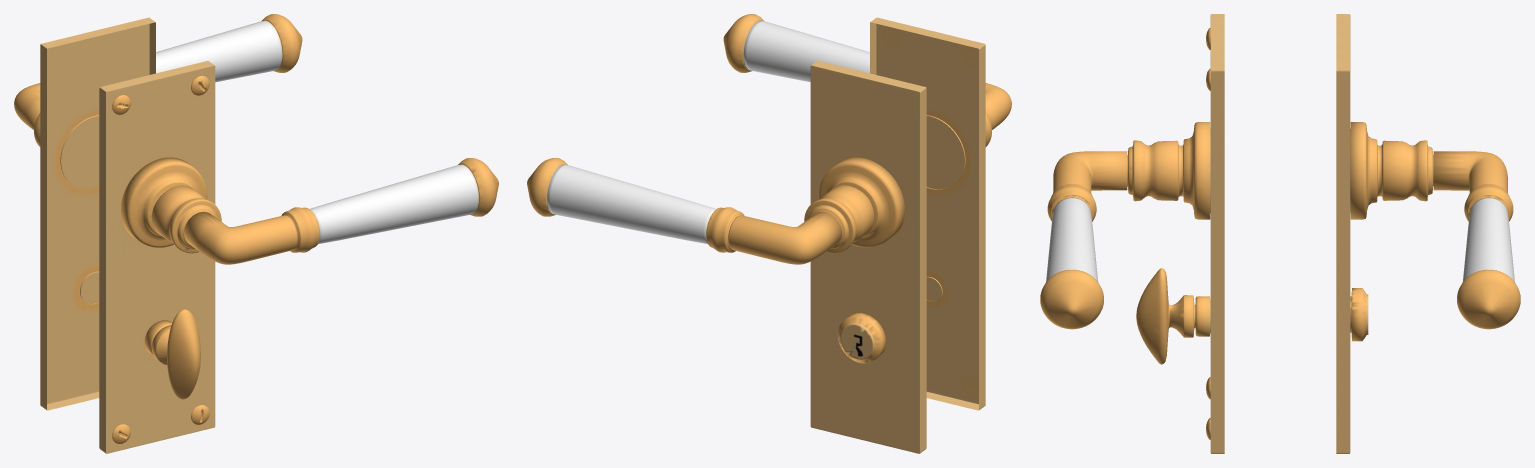
Rendered from handle_lever_classic.glb.
The picture shows the model from 3 angles, left to right: view 1: azimuth 30°, elevation 25°; view 2: azimuth 150°, elevation 25°; view 3: azimuth 270°, elevation 25°; orthographic projection. The views are drawn at different scales.
Visible parts, largest first — view 1: Object_4; view 2: Object_4; view 3: Object_4.
Part boxes in pixels (bbox=[...]): Object_4: bbox=[14, 14, 498, 453]; Object_4: bbox=[527, 14, 1011, 453]; Object_4: bbox=[1040, 14, 1520, 453].
Size of the model in its own units: 0.1435 by 0.152 by 0.1725.
Materials: 1 (1 with a texture image).
